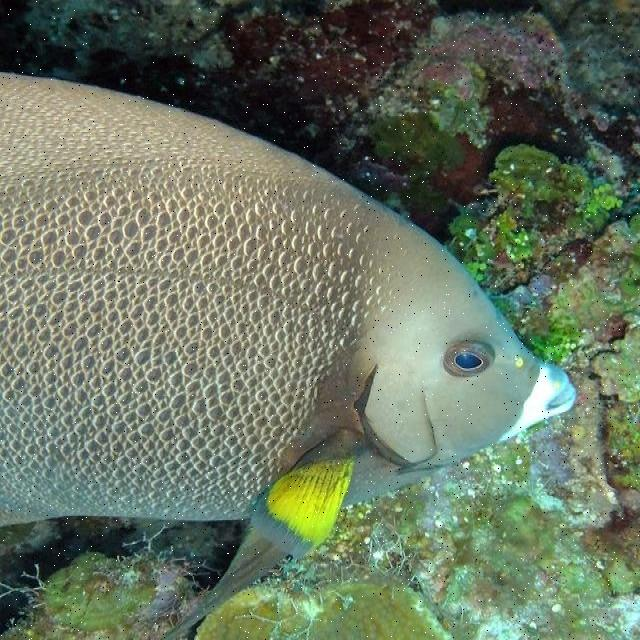fish: (0, 73, 577, 639)
